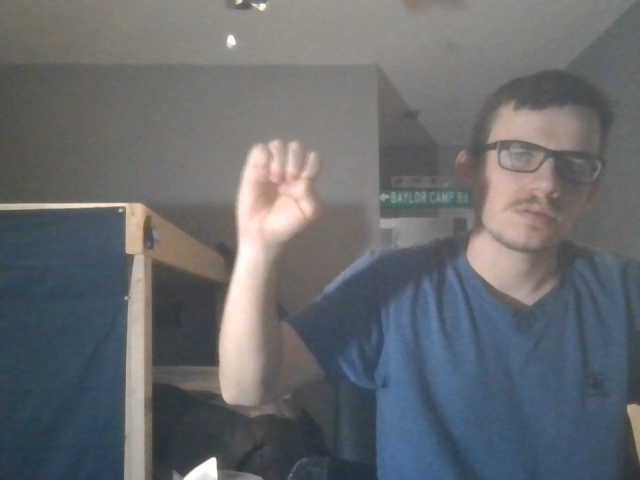E: (233, 126, 337, 249)
